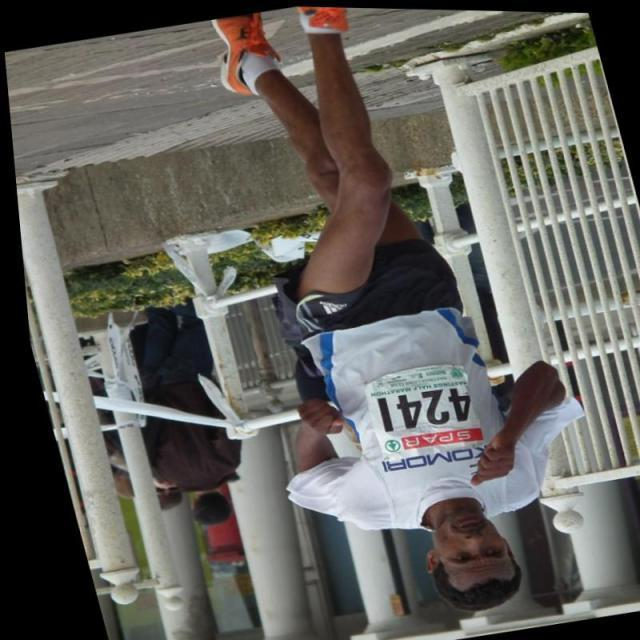dorsal: (328, 342, 494, 476)
